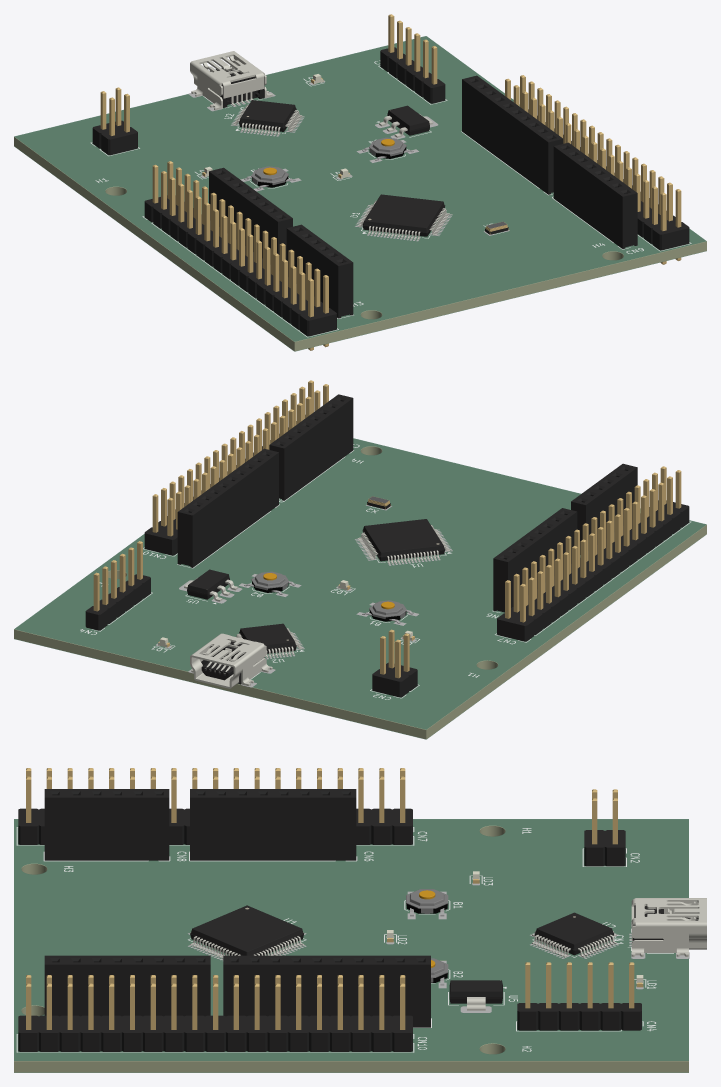
File: stm32-nucleo-f401re.glb
3 renders of one model, top to bottom at view 1: azimuth 30°, elevation 25°; view 2: azimuth 150°, elevation 25°; view 3: azimuth 270°, elevation 25°, orthographic. The views are drawn at different scales.
Parts seen in each view (by area): view 1: =>[0:1:1:32], =>[0:1:1:30], CN7, CN10, CN5, CN9, CN1, CN8, CN6, CN4, U1, CN2 (+7 smaller); view 2: =>[0:1:1:32], =>[0:1:1:30], CN7, CN5, CN10, CN9, CN6, CN1, CN4, U1, CN8, CN2 (+7 smaller); view 3: =>[0:1:1:32], =>[0:1:1:30], CN10, CN6, CN5, CN8, CN9, CN7, CN4, CN1, U1, =>[0:1:1:29] (+6 smaller).
Boxes of the visible parts, x1,y1,x2,y2 form: =>[0:1:1:32]: (14,37,706,351); =>[0:1:1:30]: (14,36,706,341); CN7: (144,161,336,350); CN10: (505,75,689,264); CN5: (462,75,563,194); CN9: (553,142,637,248); CN1: (190,51,272,110); CN8: (286,224,353,318); CN6: (209,167,292,270); CN4: (380,14,445,103); U1: (357,194,449,239); CN2: (92,87,137,155); =>[0:1:1:32]: (14,439,706,739); =>[0:1:1:30]: (14,438,706,729); CN7: (497,466,689,641); CN5: (177,448,278,567); CN10: (144,380,328,555); CN9: (269,394,353,500); CN6: (493,508,577,612); CN1: (190,633,272,688); CN4: (85,541,150,630); U1: (357,519,449,564); CN8: (571,463,637,554); CN2: (372,629,417,697); =>[0:1:1:32]: (14,820,688,1072); =>[0:1:1:30]: (14,819,688,1060); CN10: (18,975,412,1051); CN6: (190,789,356,860); CN5: (223,955,430,1027); CN8: (44,789,169,860); CN9: (44,955,210,1016); CN7: (18,768,412,844); CN4: (517,962,641,1030); CN1: (631,898,706,956); U1: (190,905,304,958); =>[0:1:1:29]: (16,827,673,1052).
Bounding box in the file's own units: 0.07 × 0.0116 × 0.0847.
